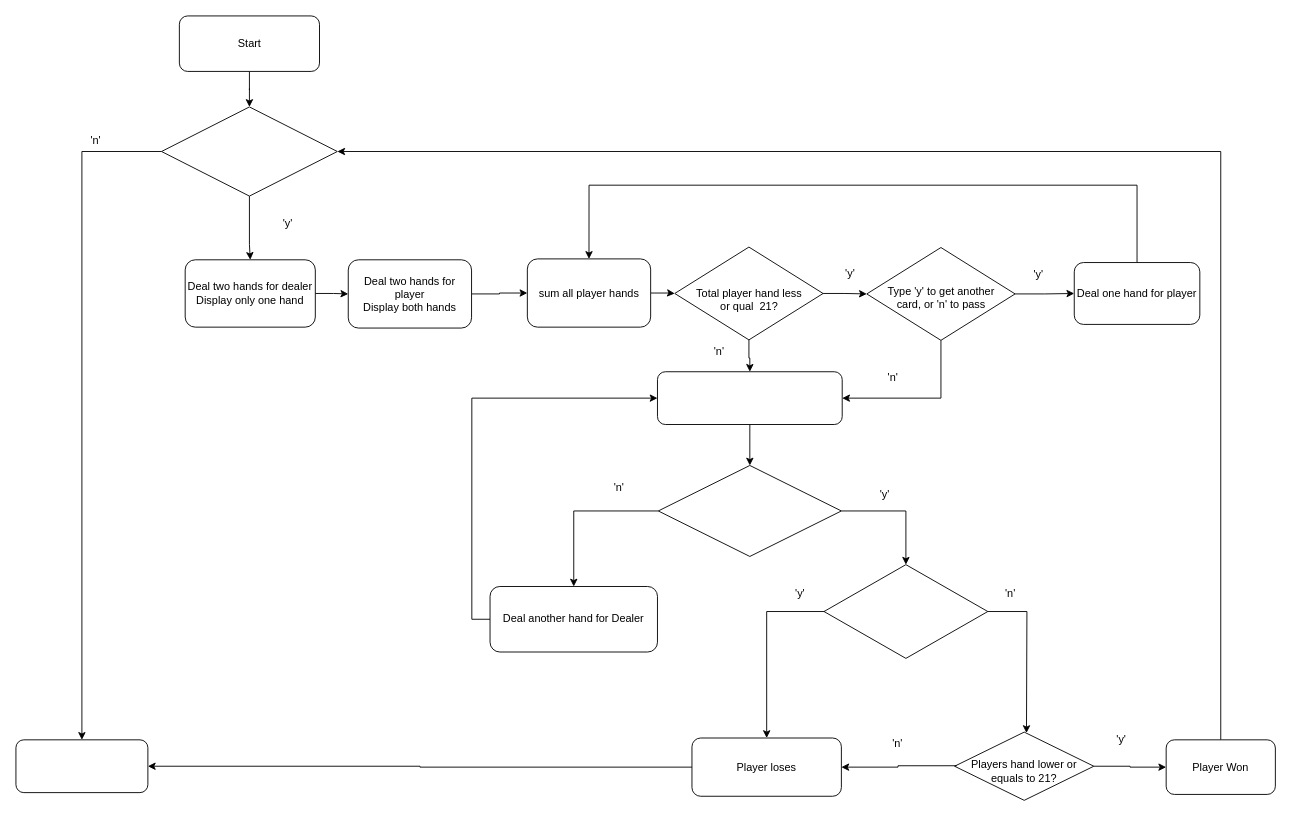
Some shapes in this 1291 by 816 pixel diagram are drawn without their labels. Here are the shapes that lost their labels. From the top down, the centre of each, then its label:
the point at 249,151: Do you wnat to play a game of blackjack?, Type 'y' or 'n'
the point at 749,398: Display all Dealers hand Display the sum of dealers hands
the point at 749,510: Dealers hand greater than 17?
the point at 905,611: Dealers hand greater than players ?
the point at 81,766: End Game
